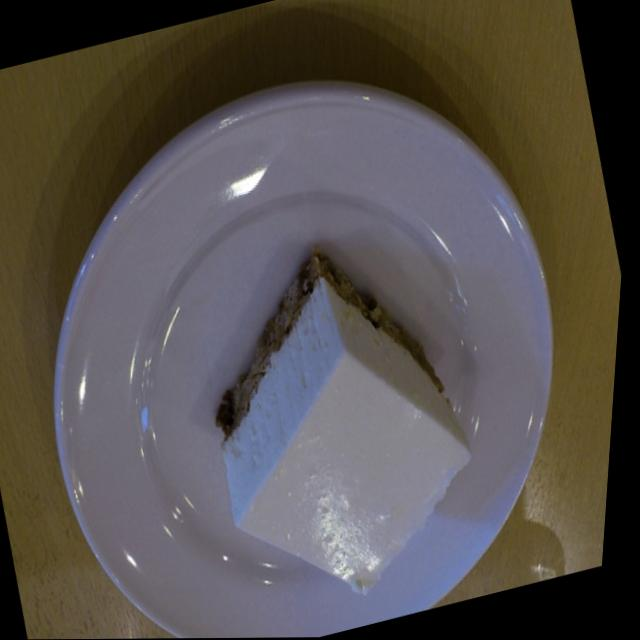蛋糕甜品: (0, 16, 639, 640)
